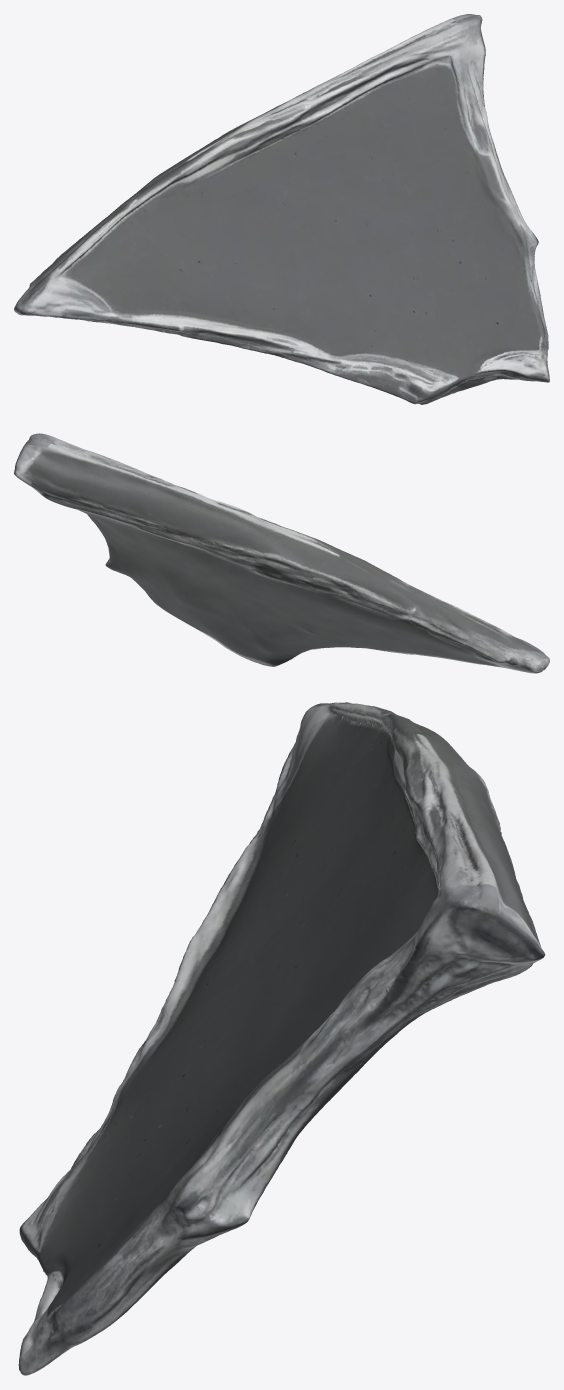
Rendered from Vidro.glb.
3 views of the same model, one above another, from view 1: azimuth 30°, elevation 25°; view 2: azimuth 150°, elevation 25°; view 3: azimuth 270°, elevation 25° (orthographic). The views are drawn at different scales.
Visible parts, largest first — view 1: mesh_0; view 2: mesh_0; view 3: mesh_0.
Boxes of the visible parts, box(x1,y1,x2,y2) form: mesh_0: box(14, 14, 549, 404); mesh_0: box(14, 433, 549, 673); mesh_0: box(18, 702, 545, 1375).
Size of the model in its own units: 2 by 1.06 by 0.9477.
Materials: 1 (1 with a texture image).
